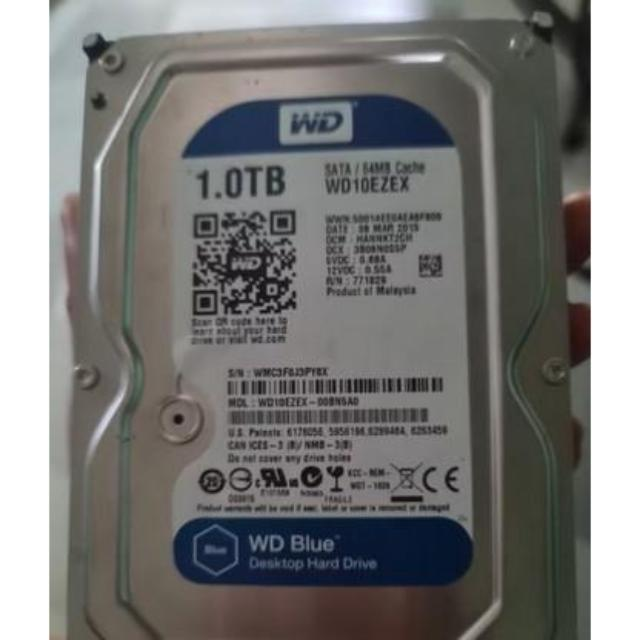DISK: (58, 0, 582, 640)
